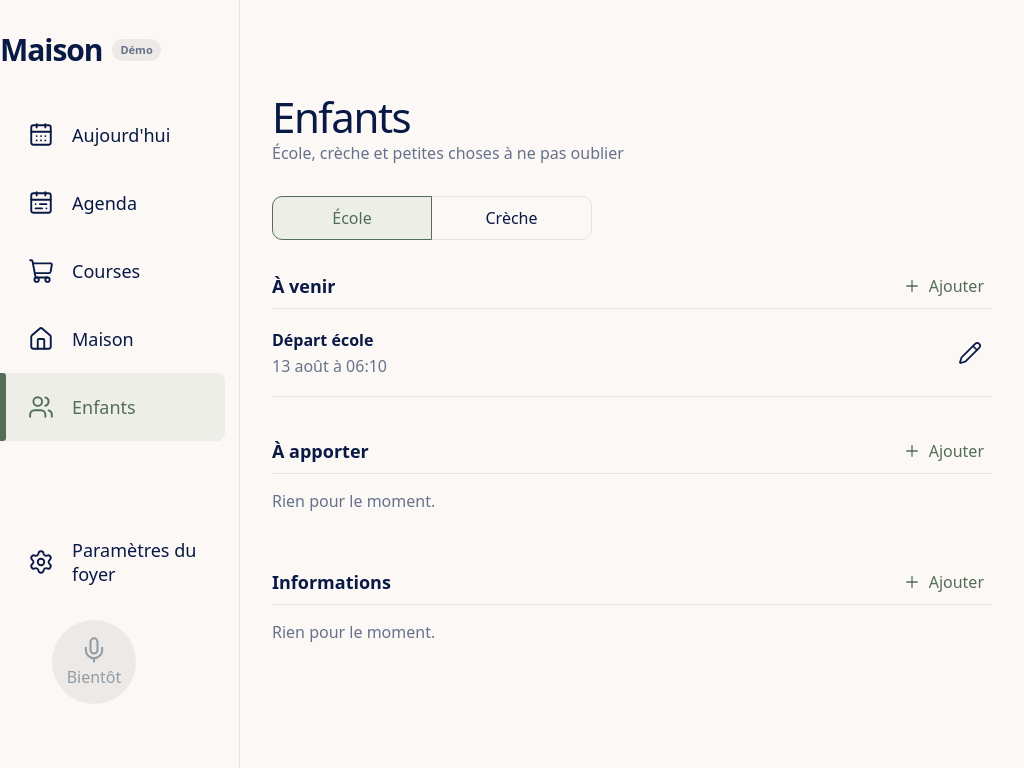
Test: leaves no partial child item when the first coupled calendar write fails
This screenshot has width=1024, height=768.
Click the button "Ajouter" in the row of "À venir": (943, 286) x1=895 y1=264 x2=992 y2=308
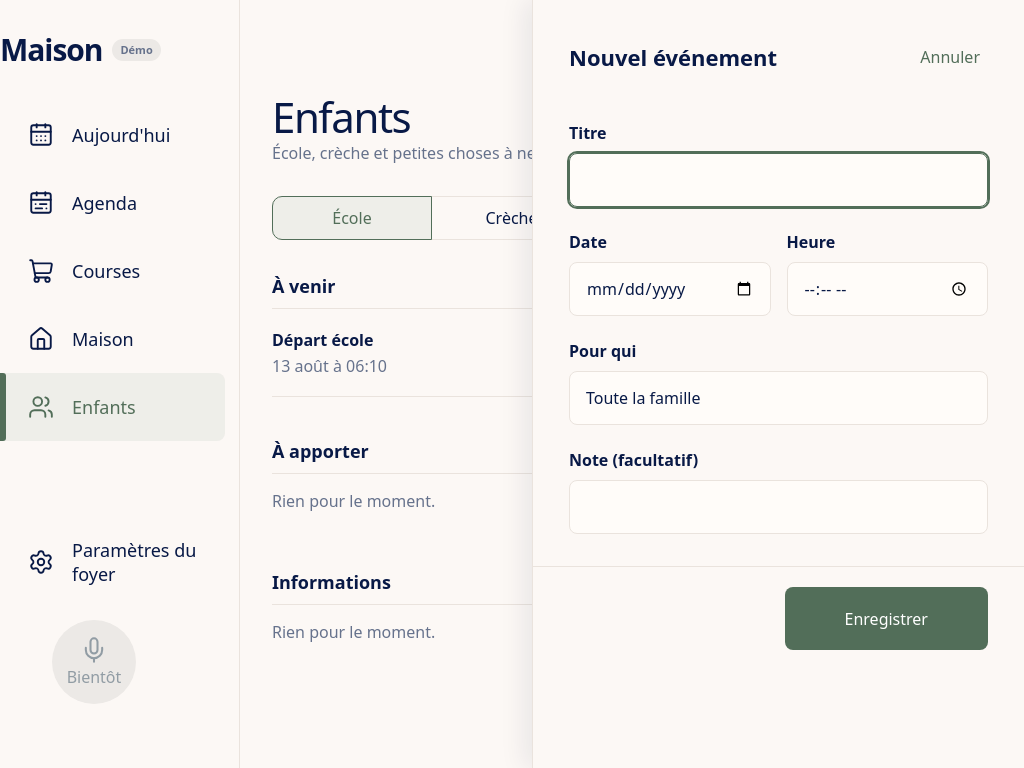
In the field labelled "Titre": (778, 180) x1=569 y1=153 x2=988 y2=207, type "Sortie musée"
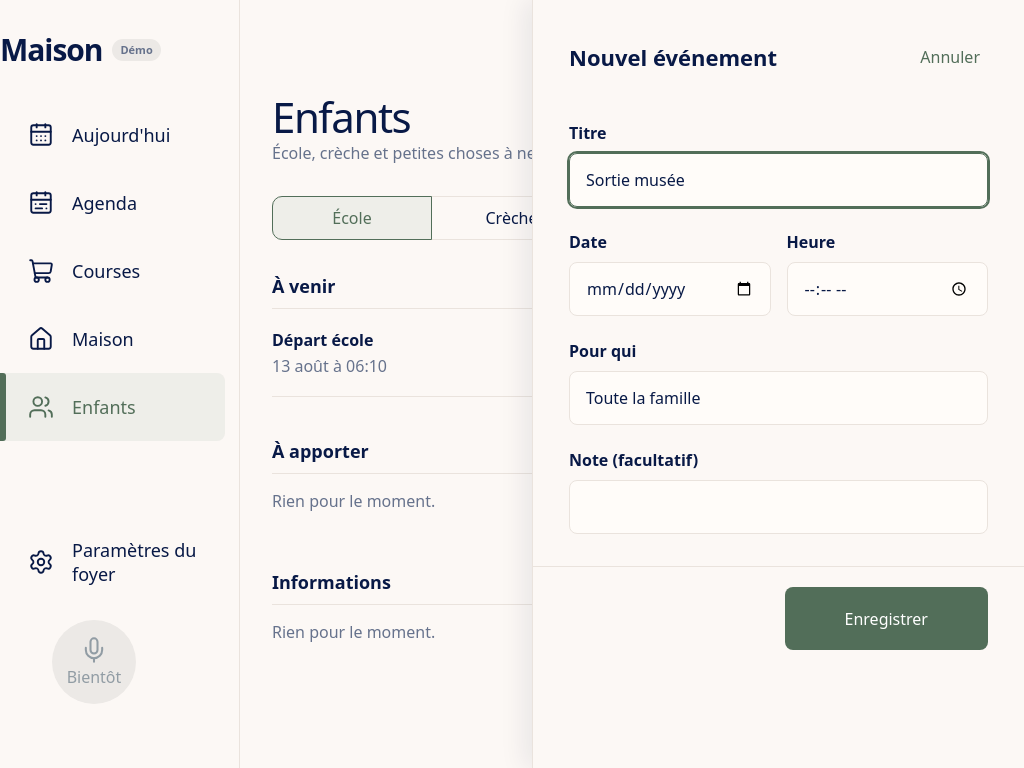
In the date field labelled "Date": (670, 289) x1=569 y1=262 x2=770 y2=316, type "2026-09-03"
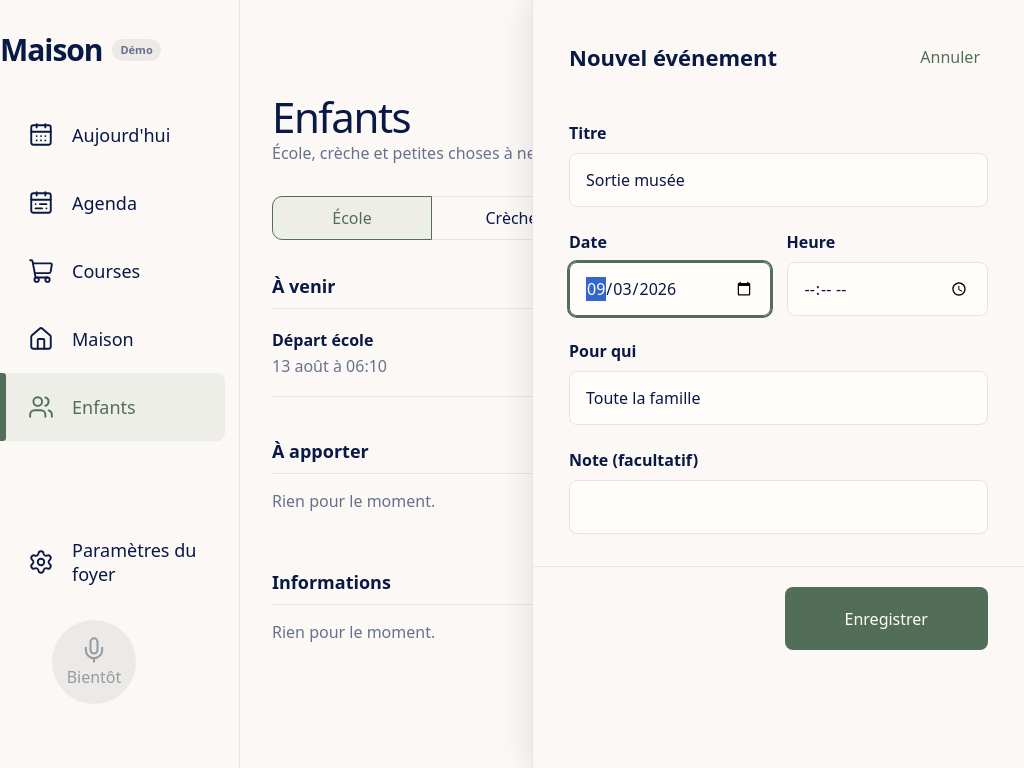
In the time field labelled "Heure": (887, 289) x1=786 y1=262 x2=988 y2=316, type "09:00"
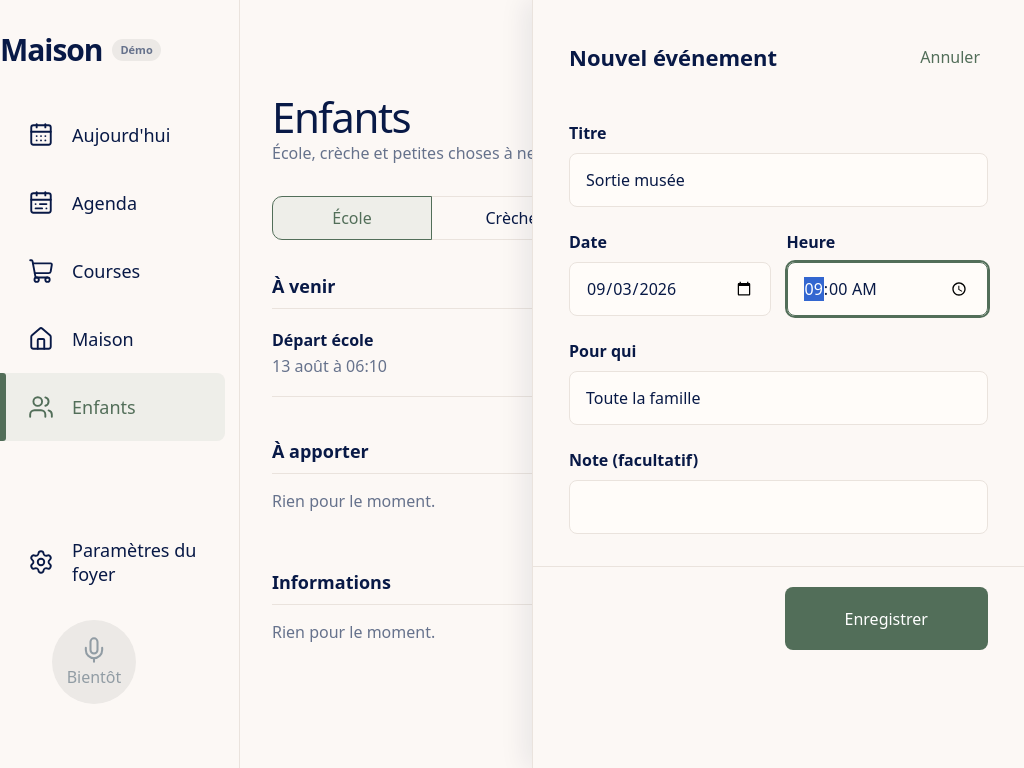
Click the button "Enregistrer": (886, 618) x1=784 y1=587 x2=988 y2=650
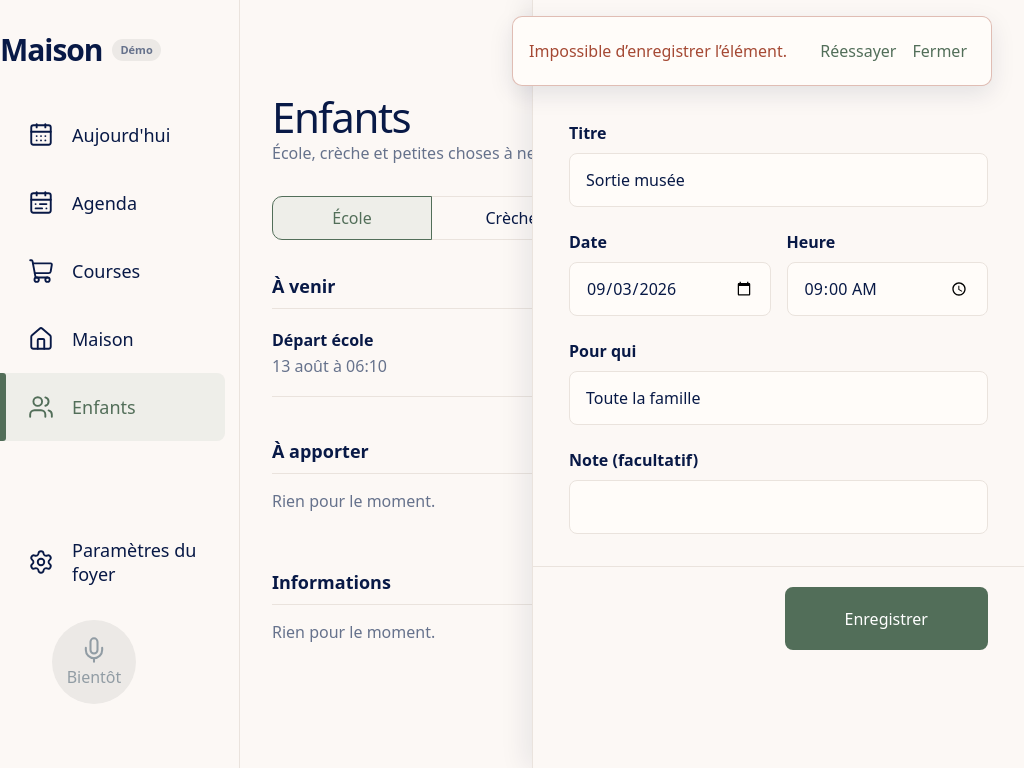
Result: the message shows "enregistrer l’élément" at x1=529 y1=40 x2=787 y2=62
